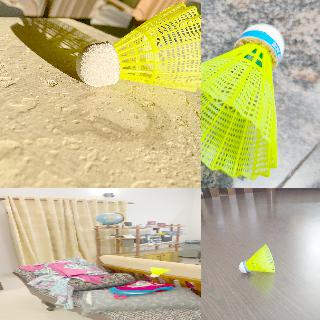shuttlecock: (201, 24, 284, 178), (75, 2, 200, 93), (239, 244, 275, 274), (150, 267, 170, 277)
